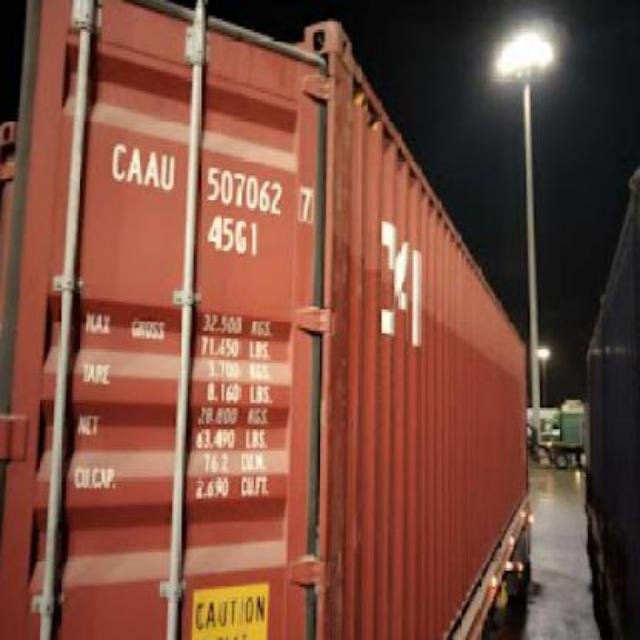0: (247, 173, 260, 211), (220, 169, 233, 205)
2: (272, 174, 286, 216)
5: (204, 160, 220, 200)
6: (260, 173, 272, 213)
7: (298, 186, 314, 222), (234, 166, 246, 208)
A: (144, 139, 160, 189), (128, 138, 142, 186)
C: (110, 136, 128, 184)
U: (161, 140, 177, 194)
